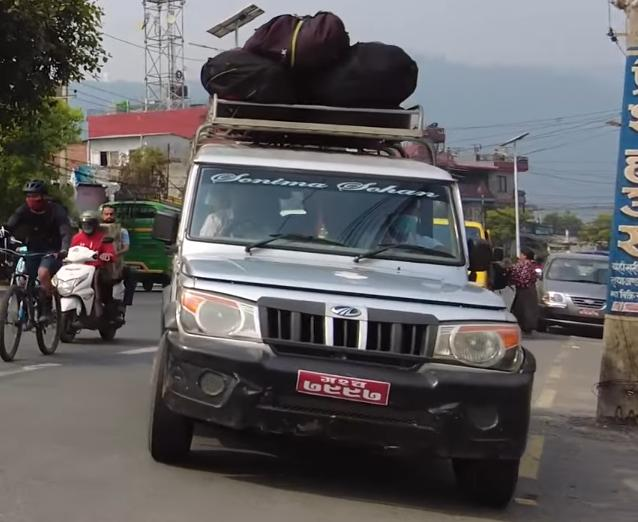SUV: (143, 89, 536, 513)
bus: (103, 197, 178, 286)
car: (532, 248, 617, 333)
scooter: (44, 240, 131, 347)
